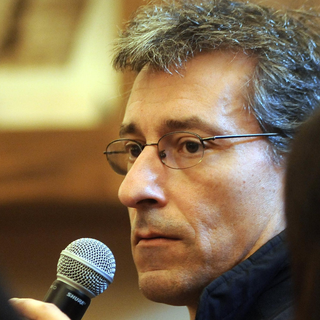eye: (164, 130, 214, 160), (115, 134, 149, 162)
